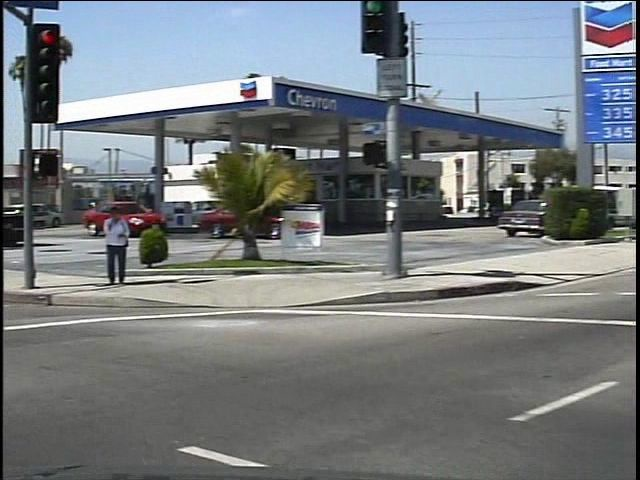person: (91, 202, 125, 291)
